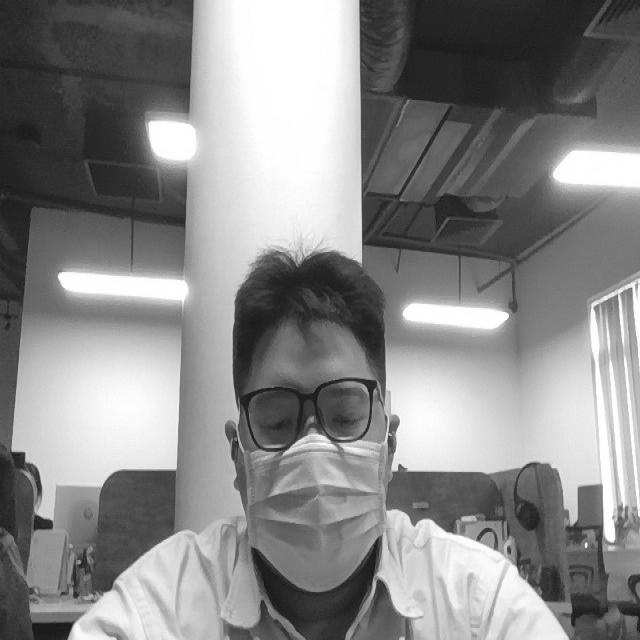fake: (243, 428, 390, 594)
real: (207, 231, 423, 621), (234, 372, 381, 444)
